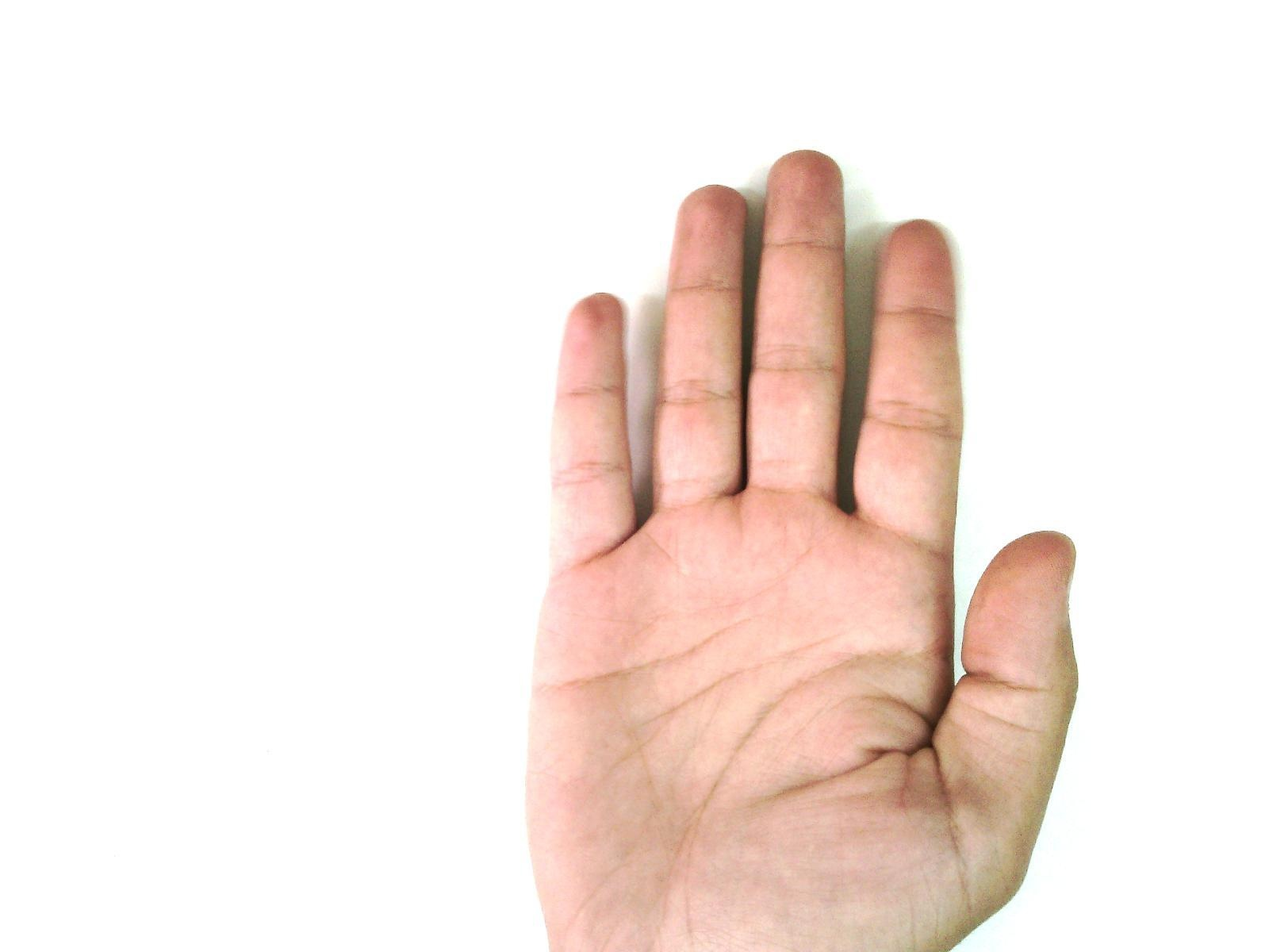open_palm: (521, 149, 1082, 952)
